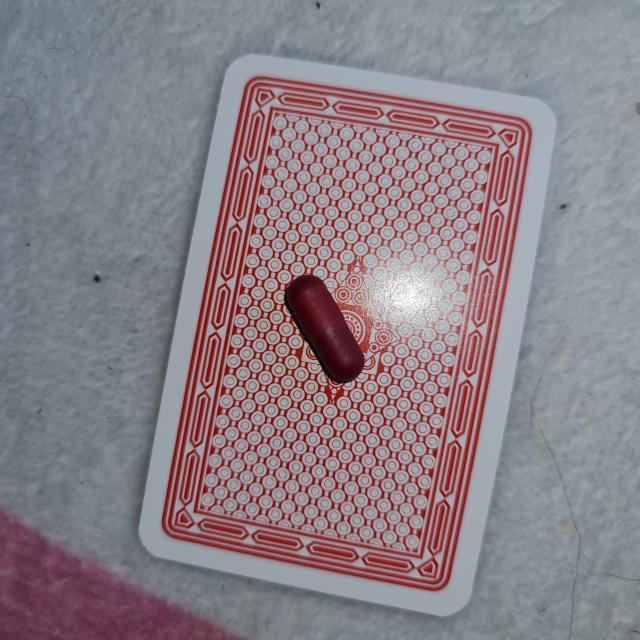pill: (282, 272, 366, 382)
